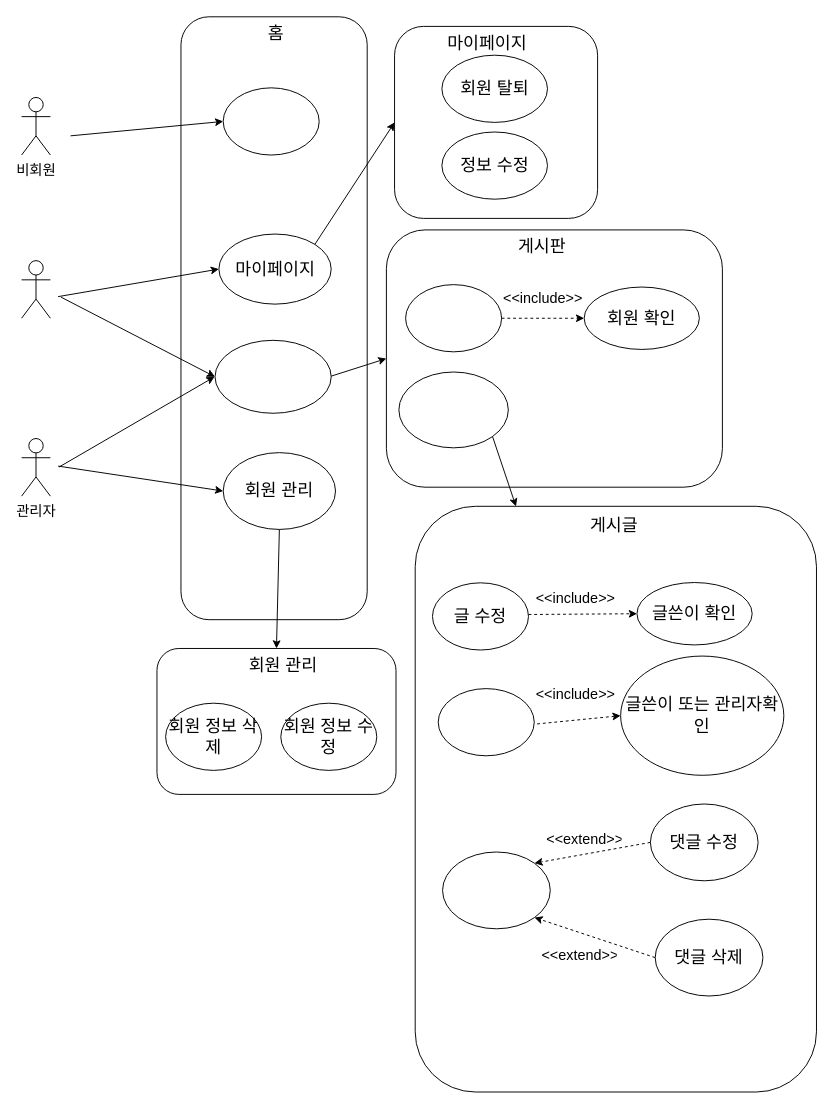
This 833x1109 diagram has some shape labels left out. Here are the shapes that lost their labels. From the top down, the centre of each, then its label:
point 270,121: 회원 가입
point 35,289: 회원
point 453,318: 글 쓰기
point 272,376: 게시판 조회
point 453,409: 게시글 보기
point 485,722: 글 삭제
point 496,890: 댓글 달기
